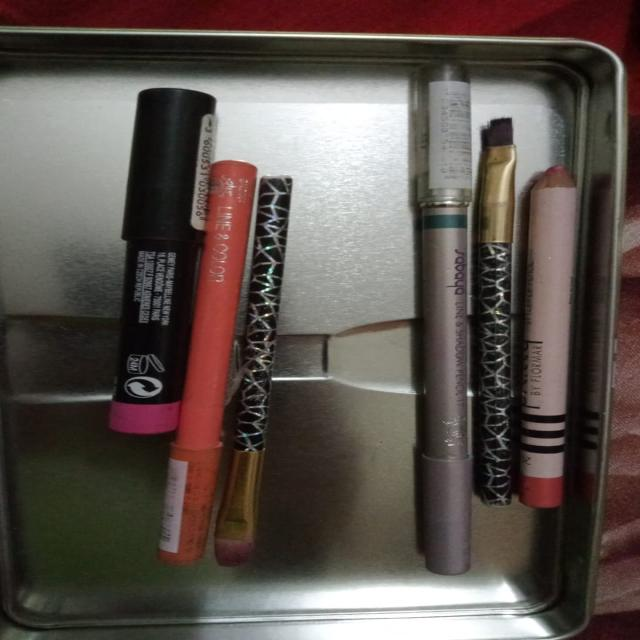brush: (478, 104, 524, 511)
eye liner: (112, 75, 325, 590)
lip liner: (405, 70, 476, 571), (513, 149, 592, 533)
